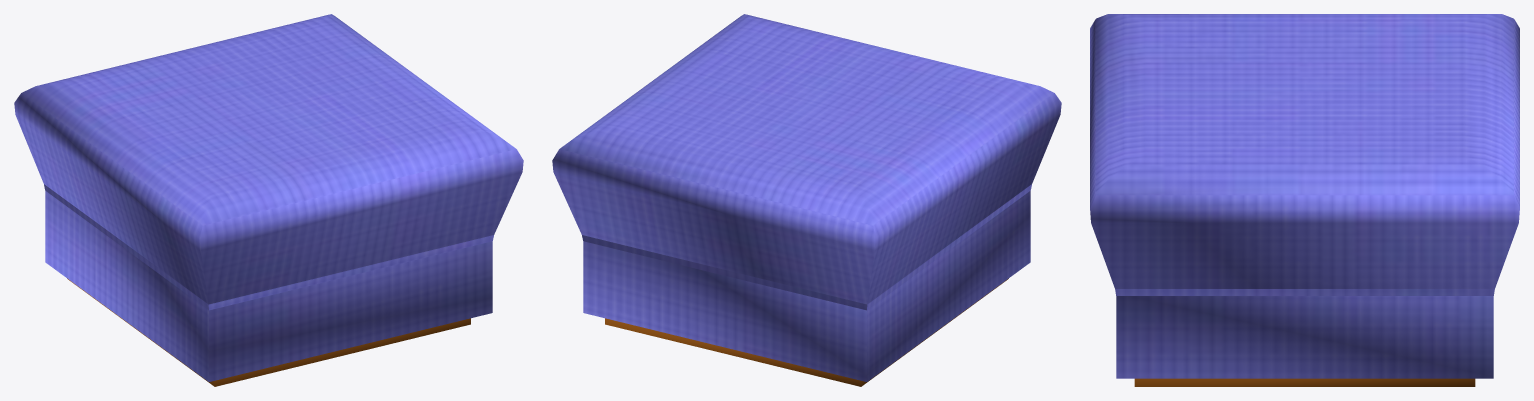
Rendered from sofa.glb.
The picture shows the model from 3 angles, left to right: view 1: azimuth 30°, elevation 25°; view 2: azimuth 150°, elevation 25°; view 3: azimuth 270°, elevation 25°; orthographic projection. The views are drawn at different scales.
Visible parts, largest first — view 1: Cube; view 2: Cube; view 3: Cube.
Part boxes in pixels (x1,y1,x2,y2): Cube: (14, 14, 523, 386); Cube: (552, 14, 1061, 386); Cube: (1090, 14, 1519, 386).
Bounding box in the file's own units: 2.59 × 1.51 × 2.59.
2 materials, 1 textured.
